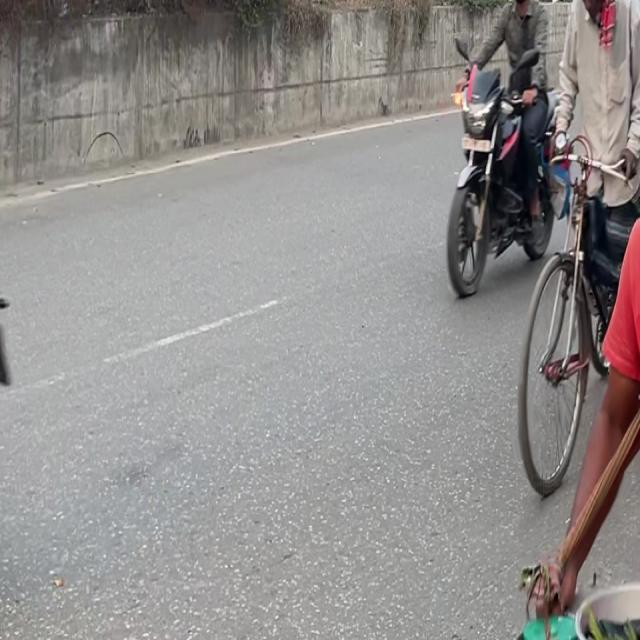motorbike: (435, 0, 555, 282)
